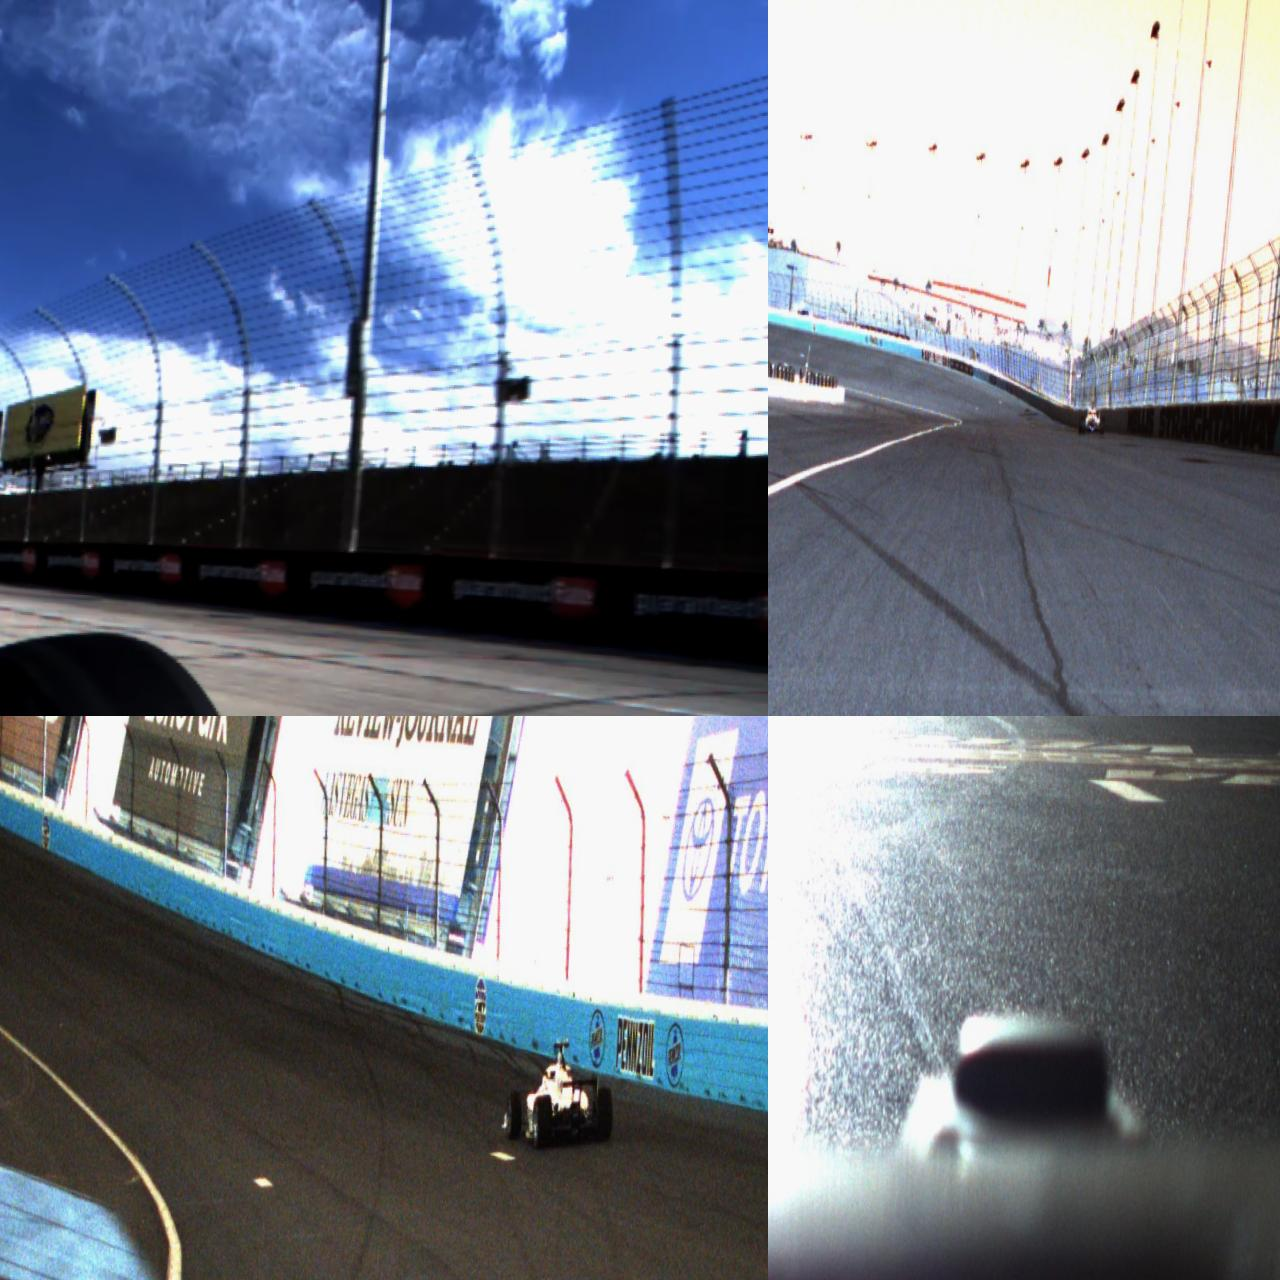AV: (499, 1035, 617, 1153), (1078, 401, 1107, 434)
Wheel: (590, 1088, 613, 1142), (531, 1092, 553, 1149), (504, 1090, 523, 1141), (1078, 415, 1085, 433), (1099, 416, 1105, 433)
